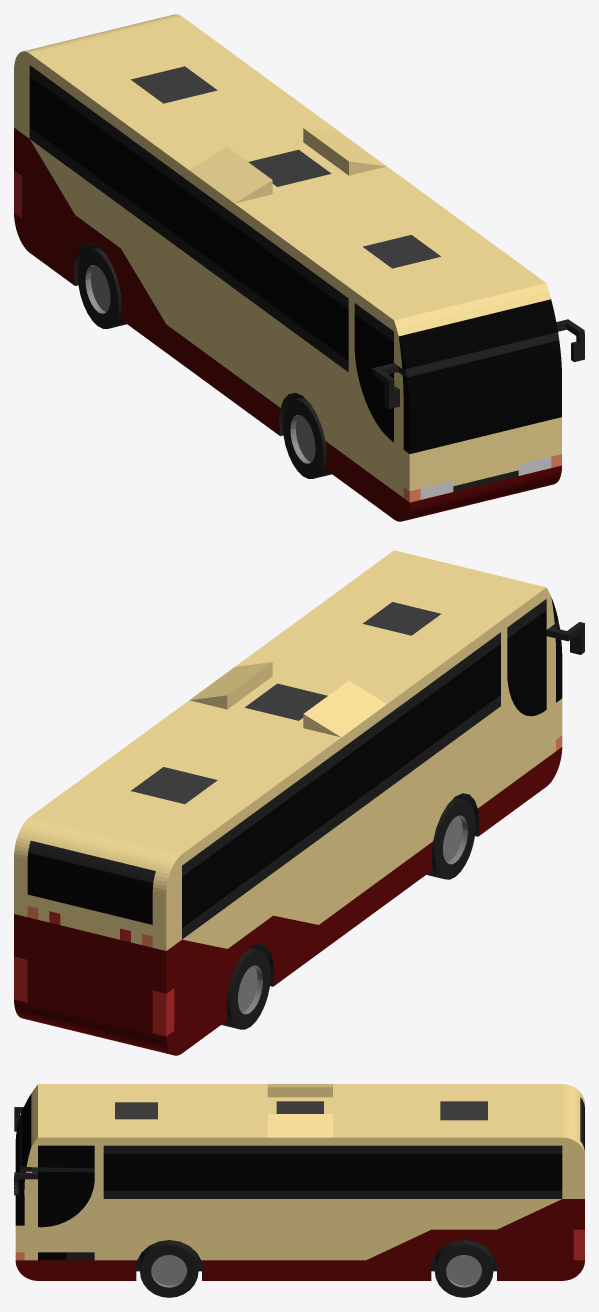
File: plaxton premiere.dae
3 renders of one model, top to bottom at view 1: azimuth 30°, elevation 25°; view 2: azimuth 150°, elevation 25°; view 3: azimuth 270°, elevation 25°, orthographic. The views are drawn at different scales.
Visible parts, largest first — view 1: SketchUp (×16); view 2: SketchUp (×17); view 3: SketchUp (×18).
Boxes of the visible parts, box(x1,y1,x2,y2) form: SketchUp (×16): box(14, 14, 584, 521); SketchUp (×17): box(14, 550, 584, 1055); SketchUp (×18): box(14, 1084, 584, 1297).
Bounding box in the file's own units: 1.42 × 4.97 × 1.64.
